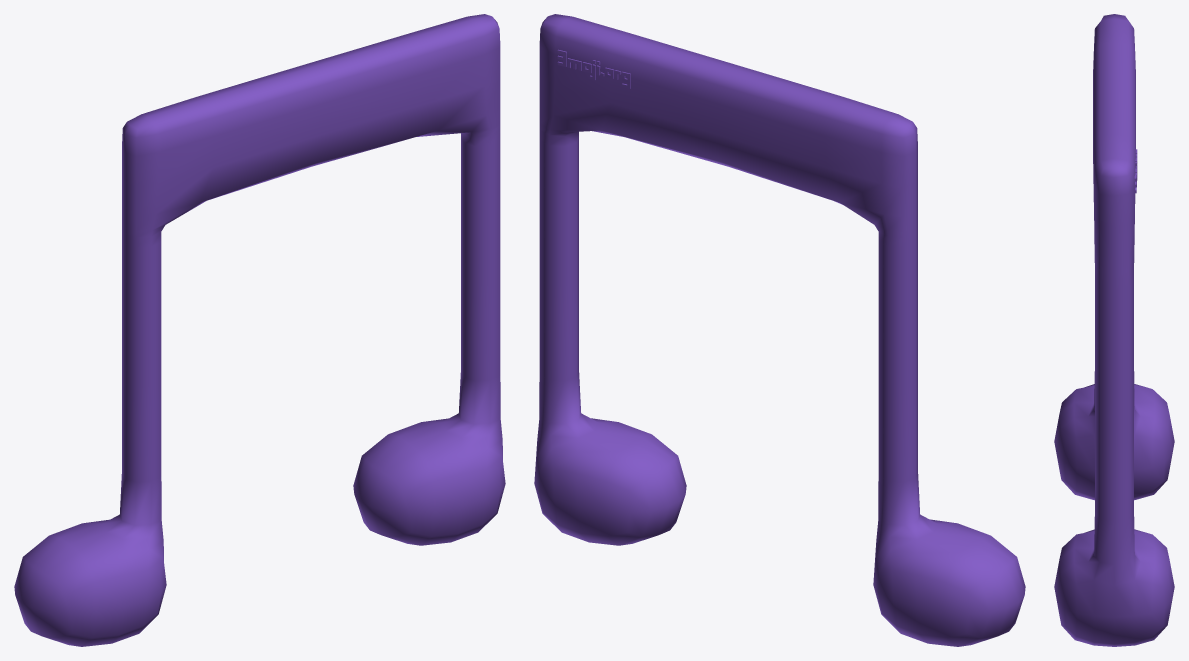
The model's file is musical_note.fbx.
3 renders of one model, left to right at view 1: azimuth 30°, elevation 25°; view 2: azimuth 150°, elevation 25°; view 3: azimuth 270°, elevation 25°, orthographic.
Parts seen in each view (by area): view 1: Cube.846; view 2: Cube.846; view 3: Cube.846.
Part boxes in pixels (<box>): Cube.846: <box>14,14,505,646</box>; Cube.846: <box>534,14,1025,646</box>; Cube.846: <box>1054,14,1174,646</box>.
Bounding box in the file's own units: 213 × 222 × 47.1.
1 material, 1 textured.
